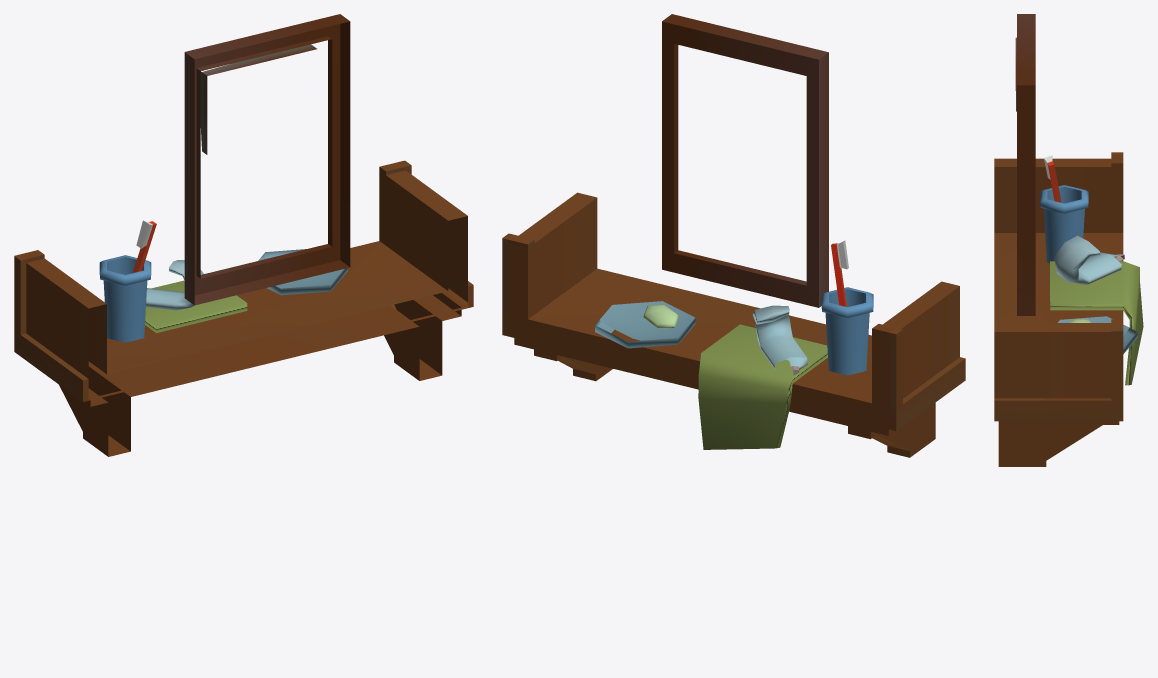
Rendered from g_o_CellMirror.fbx.
3 views of the same model, side by side, from view 1: azimuth 30°, elevation 25°; view 2: azimuth 150°, elevation 25°; view 3: azimuth 270°, elevation 25° (orthographic). The views are drawn at different scales.
Parts seen in each view (by area): view 1: mirror4; view 2: mirror4; view 3: mirror4.
Part boxes in pixels (<box>): mirror4: <box>14,14,473,456</box>; mirror4: <box>502,14,965,457</box>; mirror4: <box>994,14,1143,466</box>.
Bounding box in the file's own units: 94.71 × 136 × 33.37.
